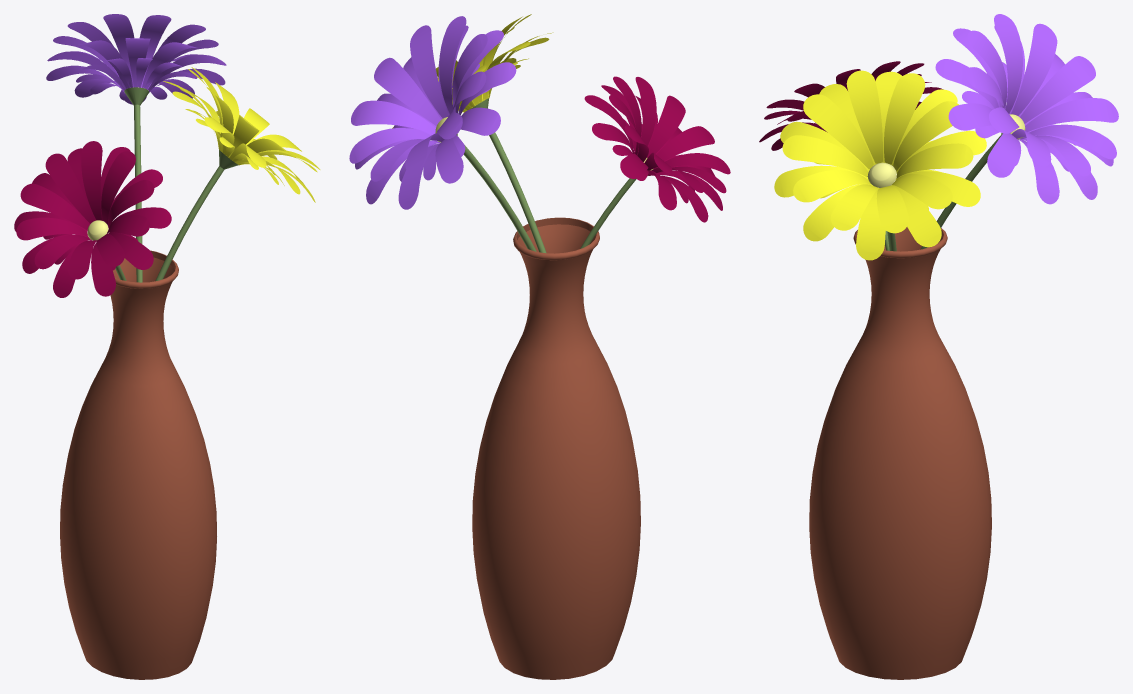
3 renders of one model, left to right at view 1: azimuth 30°, elevation 25°; view 2: azimuth 150°, elevation 25°; view 3: azimuth 270°, elevation 25°, orthographic. The views are drawn at different scales.
Parts seen in each view (by area): view 1: Mesh1_Group3_Group2_Group1_Flower_Vase1_Model; view 2: Mesh1_Group3_Group2_Group1_Flower_Vase1_Model; view 3: Mesh1_Group3_Group2_Group1_Flower_Vase1_Model.
Boxes of the visible parts, box(x1,y1,x2,y2) form: Mesh1_Group3_Group2_Group1_Flower_Vase1_Model: box(14, 14, 320, 679); Mesh1_Group3_Group2_Group1_Flower_Vase1_Model: box(349, 14, 730, 679); Mesh1_Group3_Group2_Group1_Flower_Vase1_Model: box(759, 14, 1118, 679).
Size of the model in its own units: 0.5 by 1 by 0.5.
